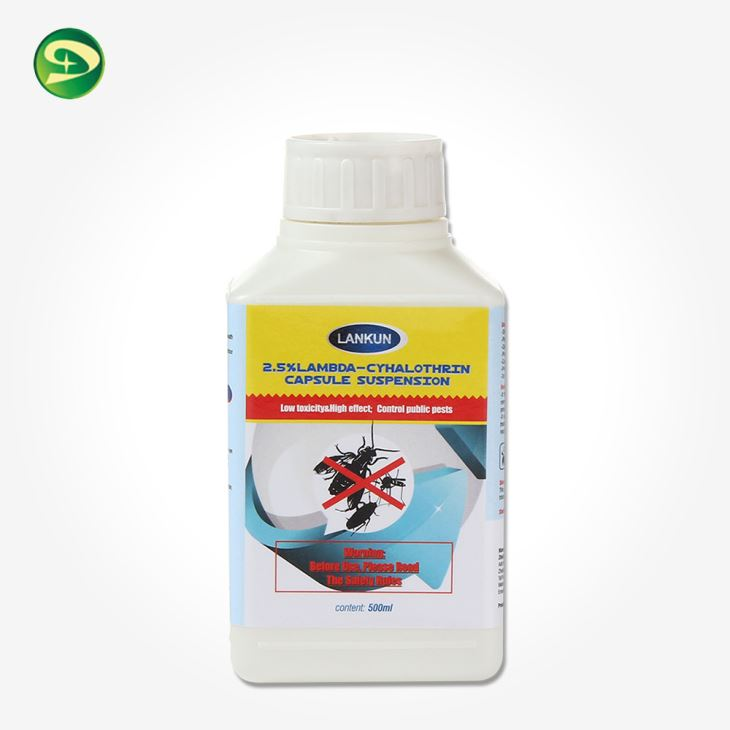Insecticide: (216, 120, 513, 694)
